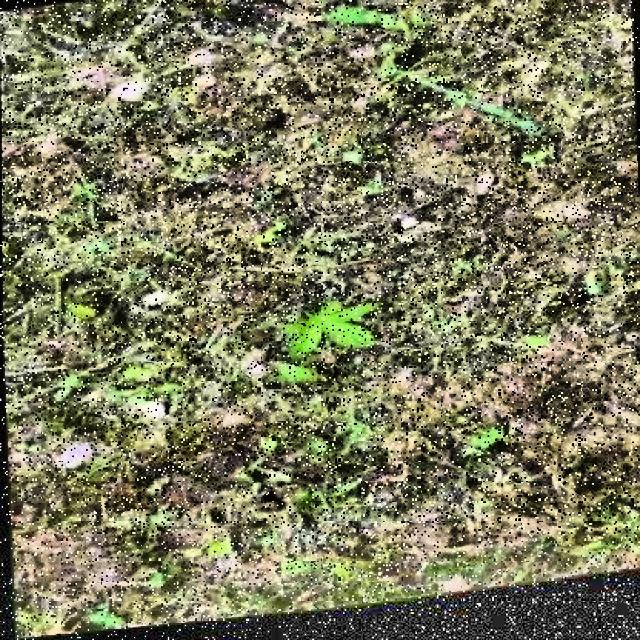Weeds: (286, 298, 382, 371)
